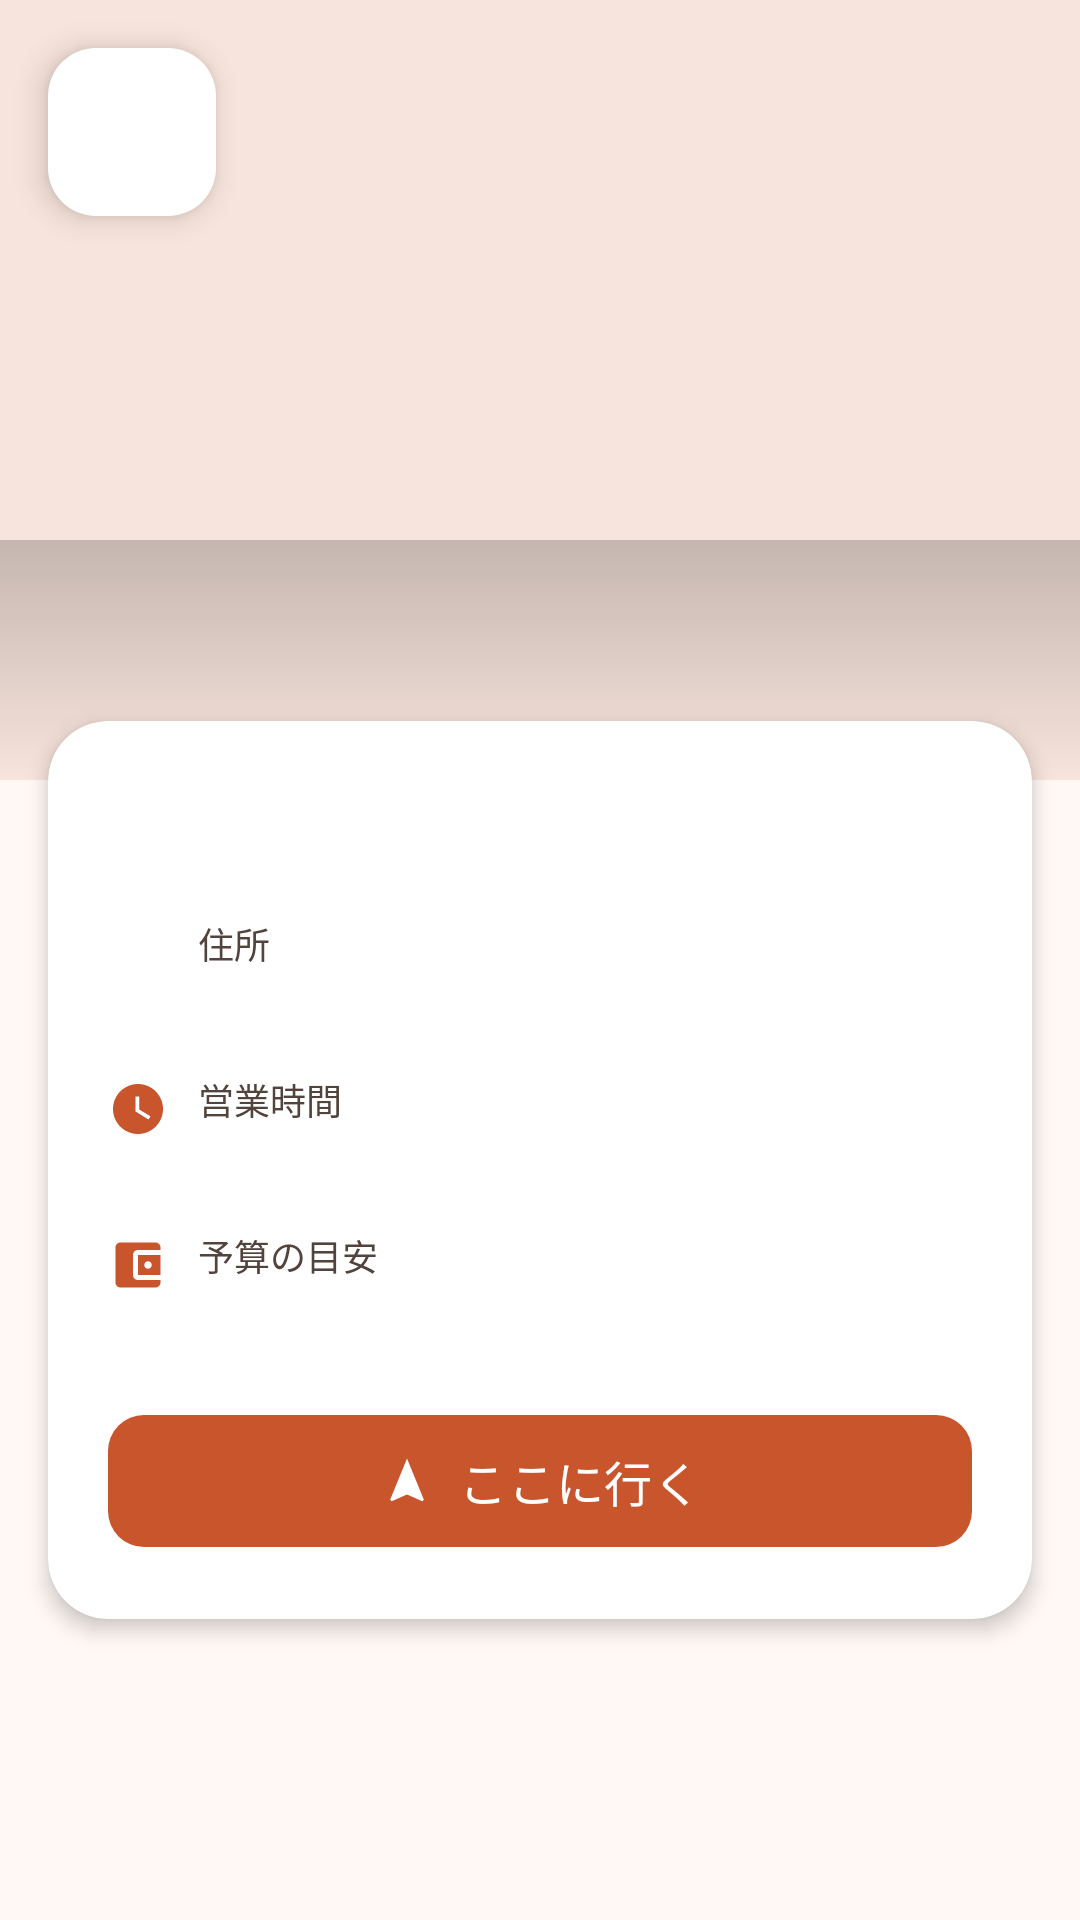

Point at icon controls on the screen. Image size 1080x1920, points as [x,y].
clock: [138,1109]
wallet: [138,1265]
